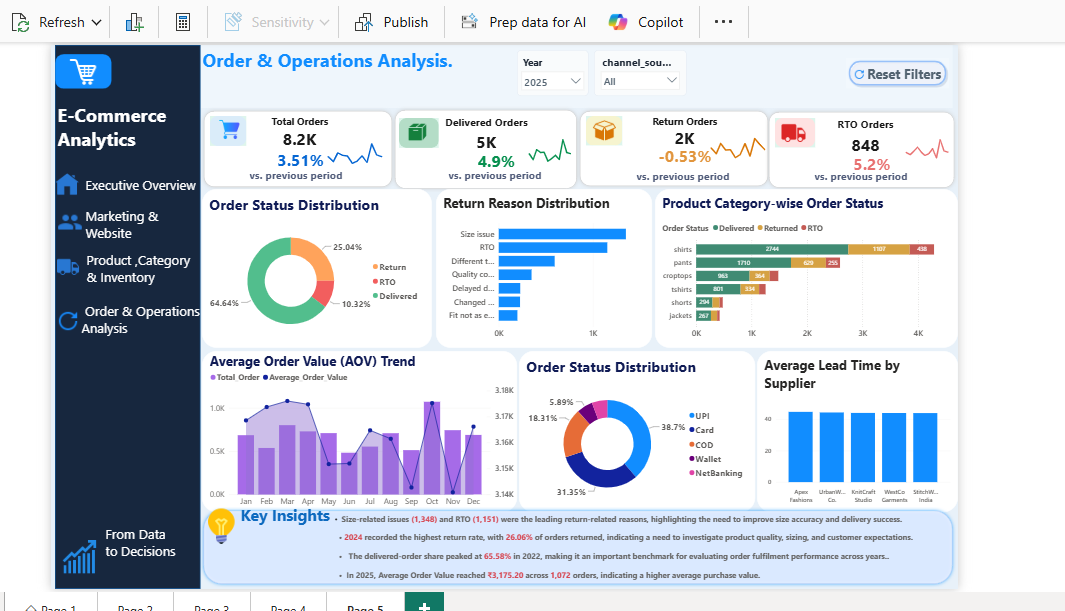

This screenshot's page, from the dashboard's own definition file:
{"tool":"powerbi","page":{"name":"Page 5","canvas":[1850,1110],"ordinal":4},"visuals":[{"type":"shape","box":[7.9,0,296.7,1110],"z":0},{"type":"actionButton","box":[1622.4,26.5,210.3,62.1],"z":0,"group":"g7"},{"type":"shape","box":[694.8,124,387.2,176.6],"z":0,"group":"g1"},{"type":"shape","box":[1071.4,126.5,400,169.4],"z":0,"group":"g5"},{"type":"shape","box":[303.6,127.4,400,171.1],"z":0,"group":"g2"},{"type":"shape","box":[1457.4,127.7,394.2,170.7],"z":0,"group":"g3"},{"type":"shape","box":[7.9,18.4,115.6,71.1],"z":1000},{"type":"image","box":[1625.8,48.9,46.6,22.4],"z":1000,"group":"g7"},{"type":"cardVisual","title":"Return Orders","fields":{"Data":["Dax_Measure 5.Return Ordes"]},"box":[1185.7,140.7,215.6,149.6],"z":1000,"group":"g5"},{"type":"cardVisual","title":"Total Orders","fields":{"Data":["Dax_Measure.Total_Order"]},"box":[400.2,141.2,215.6,151.1],"z":1000,"group":"g2"},{"type":"cardVisual","title":"Delivered Orders","fields":{"Data":["Dax_Measure 5.Delivered Orders"]},"box":[798.6,142.5,182,82.8],"z":1000,"group":"g1"},{"type":"cardVisual","title":"RTO Orders","fields":{"Data":["Dax_Measure 5.RTO Orders"]},"box":[1575.3,146.9,174.1,86.2],"z":1000,"group":"g3"},{"type":"image","box":[23.7,28.9,82.2,53.3],"z":2000},{"type":"shape","box":[1092,144,73.9,60.4],"z":2000,"group":"g5"},{"type":"shape","box":[324.2,145.1,73.9,61],"z":2000,"group":"g2"},{"type":"shape","box":[712.1,148.6,81.4,61.1],"z":2000,"group":"g1"},{"type":"shape","box":[1478.4,148.9,81.8,59.6],"z":2000,"group":"g3"},{"type":"textbox","box":[7.9,113.2,297.4,113.2],"z":3000},{"type":"cardVisual","fields":{"Data":["Dax_Measure 5.Return Order %"]},"box":[1211.8,186.4,153.2,77.9],"z":3000,"group":"g5"},{"type":"cardVisual","fields":{"Data":["Dax_Measure.Order_Growth"]},"box":[408.8,198.9,176.6,68.1],"z":3000,"group":"g2"},{"type":"cardVisual","fields":{"Data":["Dax_Measure 5.Delivered %"]},"box":[807.8,210.9,158.7,43.6],"z":4000,"group":"g1"},{"type":"cardVisual","fields":{"Data":["Dax_Measure 5.RTO%"]},"box":[1579.1,217.8,151.1,42.6],"z":4000,"group":"g3"},{"type":"textbox","box":[65.8,260.5,239.5,68.4],"z":4000},{"type":"textbox","box":[400.2,245.6,213.3,46.7],"z":5000,"group":"g2"},{"type":"textbox","box":[1189.4,247.6,208.5,42.1],"z":5000,"group":"g5"},{"type":"image","box":[4.1,269.4,57.1,38.8],"z":5000},{"type":"lineChart","fields":{"Category":["Dim_Date.Year Month"],"Y":["Dax_Measure 5.Return Ordes"]},"box":[1333.1,170.7,138.3,71.6],"z":6000,"group":"g5"},{"type":"lineChart","fields":{"Y":["Dax_Measure.Total_Order"],"Category":["Dim_Date.Year Month"]},"box":[550.4,179.6,138.4,73.5],"z":6000,"group":"g2"},{"type":"textbox","box":[1554.1,246.3,216.3,38.8],"z":6000,"group":"g3"},{"type":"image","box":[13.2,323.7,52.6,73.7],"z":6000},{"type":"lineChart","fields":{"Category":["Dim_Date.Year Month"],"Y":["Dax_Measure 5.RTO Orders"]},"box":[1730.6,169.3,114.4,83.6],"z":7000,"group":"g3"},{"type":"lineChart","fields":{"Category":["Dim_Date.Year Month"],"Y":["Dax_Measure 5.Delivered Orders"]},"box":[962.8,169.5,113.8,85.7],"z":7000,"group":"g1"},{"type":"textbox","box":[65.8,323.7,239.5,92.1],"z":7000},{"type":"textbox","box":[68.1,414.9,240.4,104.3],"z":8000},{"type":"textbox","box":[57.4,519.1,266,83],"z":9000},{"type":"textbox","box":[105.3,973.7,181.6,105.3],"z":10000},{"type":"image","box":[12.8,414.9,44.7,66],"z":11000},{"type":"image","box":[12.8,540.4,44.7,44.7],"z":12000},{"type":"image","box":[5.3,1010.5,102.6,68.4],"z":13000},{"type":"shape","box":[305.4,0,1533.9,128.6],"z":14000},{"type":"textbox","box":[304.3,0,559.6,127.7],"z":15000},{"type":"group","id":"g1","title":"Total-Revenue KPI","box":[694.8,124,387.2,176.6],"z":16000,"group":"g4"},{"type":"group","id":"g2","title":"Total-Orders KPI","box":[303.6,127.4,400,171.1],"z":16000},{"type":"group","id":"g3","title":"Total-Revenue KPI","box":[1457.4,127.7,394.2,170.7],"z":16000,"group":"g6"},{"type":"group","id":"g4","title":"Group 1","box":[694.8,124,387.2,176.6],"z":17000},{"type":"group","id":"g5","title":"Total-Orders KPI","box":[1071.4,126.5,400,169.4],"z":18000},{"type":"group","id":"g6","title":"Group 1","box":[1457.4,127.7,393.6,170.2],"z":19000},{"type":"donutChart","title":" Order Status Distribution","fields":{"Y":["Dax_Measure 5.Return Ordes","Dax_Measure 5.RTO Orders","Dax_Measure 5.Delivered Orders"]},"box":[308.2,293.9,469.4,324.5],"z":20000},{"type":"donutChart","title":" Order Status Distribution","fields":{"Category":["public order_clean.payment_mode"],"Y":["Dax_Measure.Total_Order"]},"box":[955.1,624.5,481.6,328.6],"z":21000},{"type":"slicer","fields":{"Values":["Dim_Date.Year"]},"box":[951.9,9.6,146.2,94.2],"z":22000},{"type":"lineClusteredColumnComboChart","title":"Average Order Value (AOV) Trend","fields":{"Category":["Dim_Date.Month"],"Y":["Dax_Measure.Total_Order"],"Y2":["Dax_Measure.Average_Order_Value"]},"box":[308.2,624.5,642.9,328.6],"z":23000},{"type":"clusteredBarChart","title":"Return Reason Distribution","fields":{"Y":["Dax_Measure 5.Return Reson Count"],"Category":["public clean_fashionorder.return_reason"]},"box":[785.7,293.9,440.8,324.5],"z":24000},{"type":"clusteredColumnChart","title":"Average Lead Time by Supplier","fields":{"Category":["public purchases_orders_clean.vendor"],"Y":["Dax_measure-4 (2).Average Supplier Lead Time"]},"box":[1439.8,624.5,410.2,328.6],"z":25000},{"type":"barChart","title":"Product Category-wise Order Status","fields":{"Category":["public clean_fashionorder.category"],"Series":["public order_clean.delivered_returned_rto"],"Y":["Dax_Measure 5.Category-wise Orders"]},"box":[1232.7,293.9,618.4,324.5],"z":26000},{"type":"slicer","fields":{"Values":["public order_clean.channel_source_last_touch"]},"box":[1107.8,9.8,188.9,94.4],"z":27000},{"type":"group","id":"g7","title":"Reset Button","box":[1622.4,26.5,210.2,61.2],"z":28000},{"type":"group","id":"g8","title":"Group 2","box":[304.1,930.6,1542.9,177.6],"z":29000},{"type":"image","box":[325.5,148.9,74.5,46.8],"z":30000},{"type":"shape","box":[304.1,943.8,1542.9,164.3],"z":30000,"group":"g8"},{"type":"image","box":[719.1,155.3,59.6,44.7],"z":31000},{"type":"image","box":[304.3,930.6,86.6,102.5],"z":31000,"group":"g8"},{"type":"image","box":[1100,151.1,59.6,46.8],"z":32000},{"type":"textbox","box":[381,931.3,213.7,74.3],"z":32000,"group":"g8"},{"type":"image","box":[1489.4,148.9,51.1,48.9],"z":33000},{"type":"textbox","box":[573.3,951.8,1261.2,155.1],"z":33000,"group":"g8"},{"type":"textbox","box":[806.4,244.7,219.1,40.4],"z":34000}]}

Visuals, with their boxes on the page's 1850x1110 design canvas (x1, y1, x2, y2). These are canvas units, not pixel positions in the 1065x611 screenshot, which may show the page scaled, cropped or inside an application window:
shape: [8, 0, 305, 1110]
actionButton: [1622, 26, 1833, 89]
shape: [695, 124, 1082, 301]
shape: [1071, 126, 1471, 296]
shape: [304, 127, 704, 298]
shape: [1457, 128, 1852, 298]
shape: [8, 18, 124, 90]
image: [1626, 49, 1672, 71]
"Return Orders" cardVisual: [1186, 141, 1401, 290]
"Total Orders" cardVisual: [400, 141, 616, 292]
"Delivered Orders" cardVisual: [799, 142, 981, 225]
"RTO Orders" cardVisual: [1575, 147, 1749, 233]
image: [24, 29, 106, 82]
shape: [1092, 144, 1166, 204]
shape: [324, 145, 398, 206]
shape: [712, 149, 794, 210]
shape: [1478, 149, 1560, 208]
textbox: [8, 113, 305, 226]
cardVisual - Dax_Measure 5.Return Order %: [1212, 186, 1365, 264]
cardVisual - Dax_Measure.Order_Growth: [409, 199, 585, 267]
cardVisual - Dax_Measure 5.Delivered %: [808, 211, 966, 254]
cardVisual - Dax_Measure 5.RTO%: [1579, 218, 1730, 260]
textbox: [66, 260, 305, 329]
textbox: [400, 246, 614, 292]
textbox: [1189, 248, 1398, 290]
image: [4, 269, 61, 308]
lineChart - Dim_Date.Year Month x Dax_Measure 5.Return Ordes: [1333, 171, 1471, 242]
lineChart - Dax_Measure.Total_Order x Dim_Date.Year Month: [550, 180, 689, 253]
textbox: [1554, 246, 1770, 285]
image: [13, 324, 66, 397]
lineChart - Dim_Date.Year Month x Dax_Measure 5.RTO Orders: [1731, 169, 1845, 253]
lineChart - Dim_Date.Year Month x Dax_Measure 5.Delivered Orders: [963, 170, 1077, 255]
textbox: [66, 324, 305, 416]
textbox: [68, 415, 308, 519]
textbox: [57, 519, 323, 602]
textbox: [105, 974, 287, 1079]
image: [13, 415, 58, 481]
image: [13, 540, 58, 585]
image: [5, 1010, 108, 1079]
shape: [305, 0, 1839, 129]
textbox: [304, 0, 864, 128]
"Total-Revenue KPI" group: [695, 124, 1082, 301]
"Total-Orders KPI" group: [304, 127, 704, 298]
"Total-Revenue KPI" group: [1457, 128, 1852, 298]
"Group 1" group: [695, 124, 1082, 301]
"Total-Orders KPI" group: [1071, 126, 1471, 296]
"Group 1" group: [1457, 128, 1851, 298]
" Order Status Distribution" donutChart: [308, 294, 778, 618]
" Order Status Distribution" donutChart: [955, 624, 1437, 953]
slicer - Dim_Date.Year: [952, 10, 1098, 104]
"Average Order Value (AOV) Trend" lineClusteredColumnComboChart: [308, 624, 951, 953]
"Return Reason Distribution" clusteredBarChart: [786, 294, 1226, 618]
"Average Lead Time by Supplier" clusteredColumnChart: [1440, 624, 1850, 953]
"Product Category-wise Order Status" barChart: [1233, 294, 1851, 618]
slicer - public order_clean.channel_source_last_touch: [1108, 10, 1297, 104]
"Reset Button" group: [1622, 26, 1833, 88]
"Group 2" group: [304, 931, 1847, 1108]
image: [326, 149, 400, 196]
shape: [304, 944, 1847, 1108]
image: [719, 155, 779, 200]
image: [304, 931, 391, 1033]
image: [1100, 151, 1160, 198]
textbox: [381, 931, 595, 1006]
image: [1489, 149, 1540, 198]
textbox: [573, 952, 1834, 1107]
textbox: [806, 245, 1026, 285]
